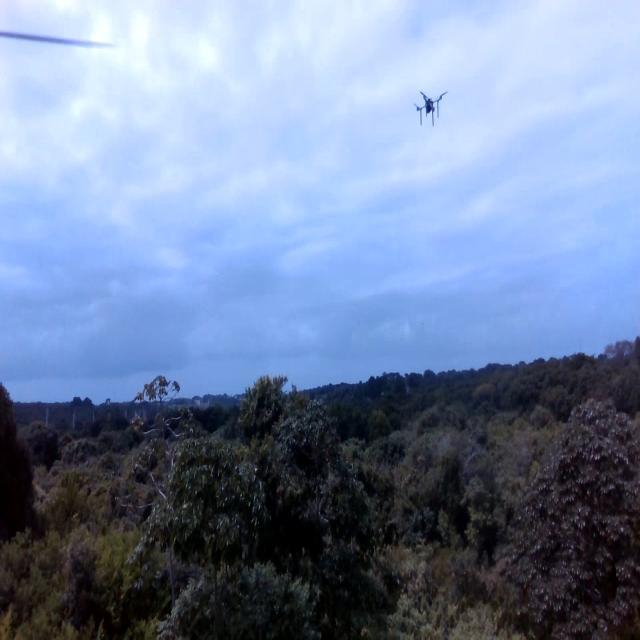-uav-: (405, 87, 463, 135)
